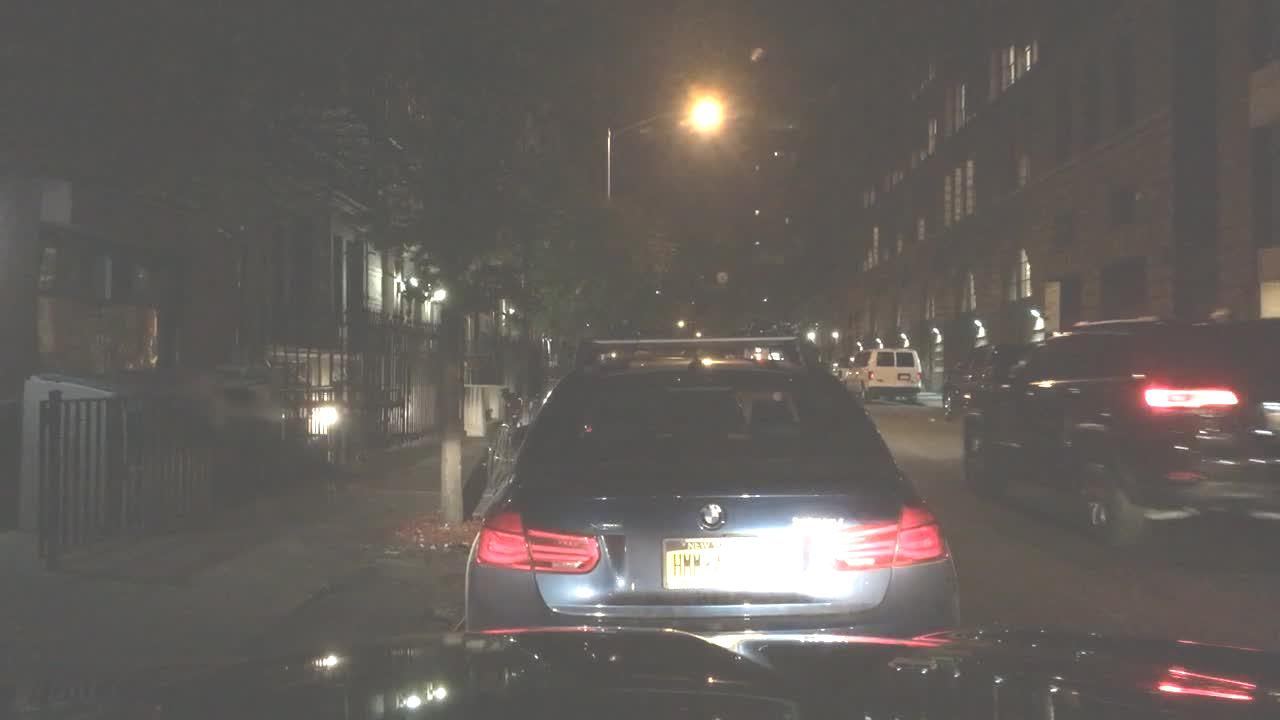bmw: (693, 497, 733, 536)
